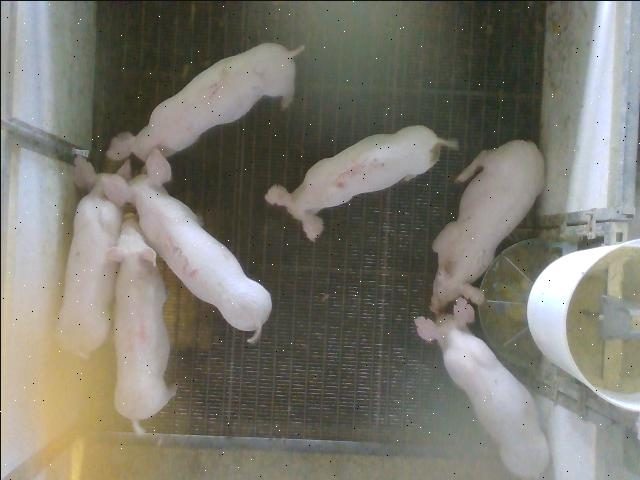pig-3: (99, 149, 270, 341)
pig-4: (106, 218, 175, 421)
pig-5: (264, 125, 456, 240)
